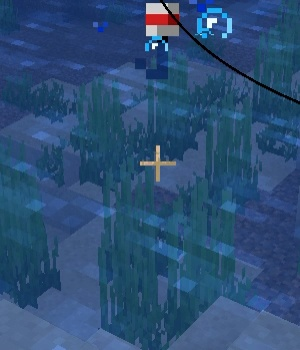up: (135, 1, 184, 77)
